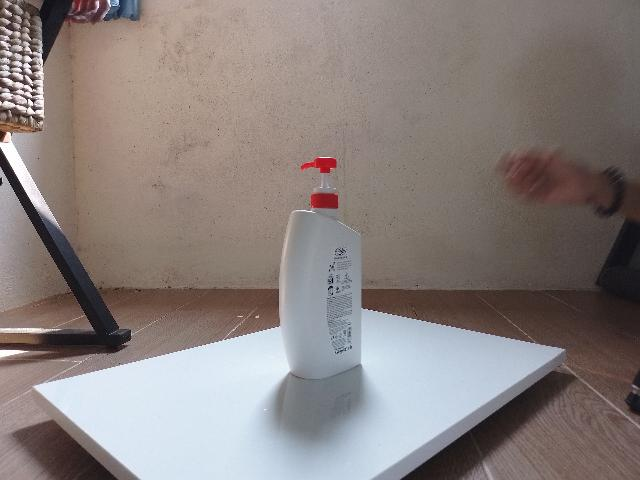life-buoy: (278, 157, 362, 380)
